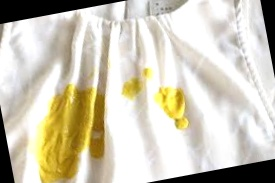mustard: (38, 79, 121, 180), (31, 117, 83, 183), (156, 82, 192, 136), (121, 72, 145, 97), (139, 65, 154, 82)
